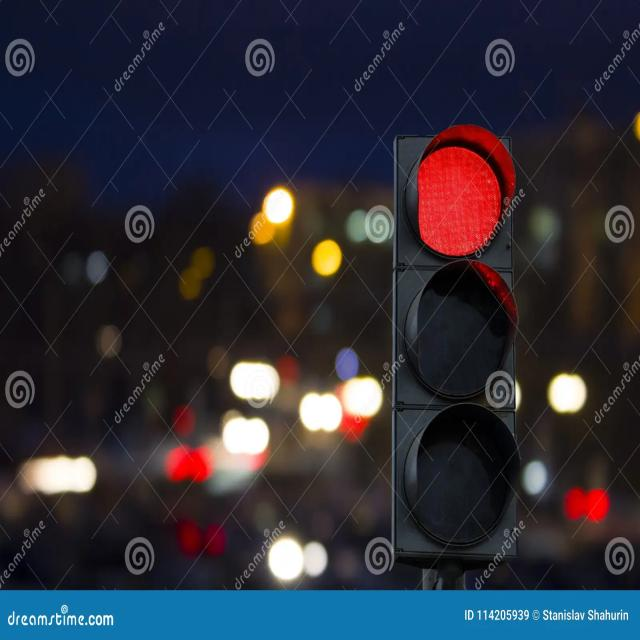red: (406, 137, 513, 253)
